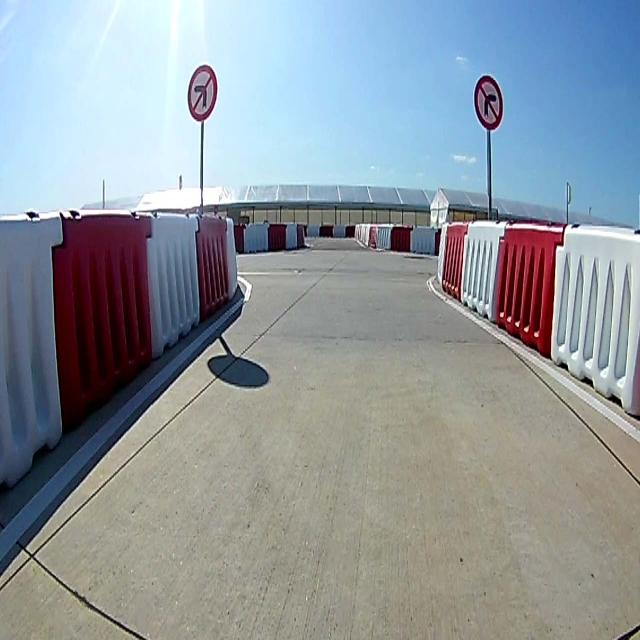sagadonulmez: (475, 76, 501, 132)
soladonulmez: (185, 66, 219, 118)
